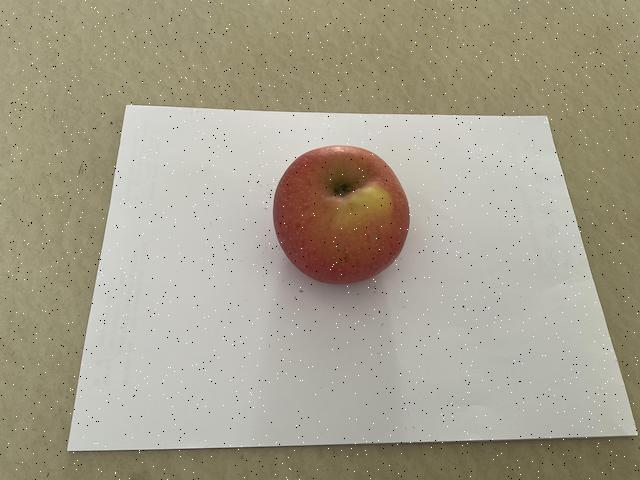apple: (269, 138, 415, 292)
